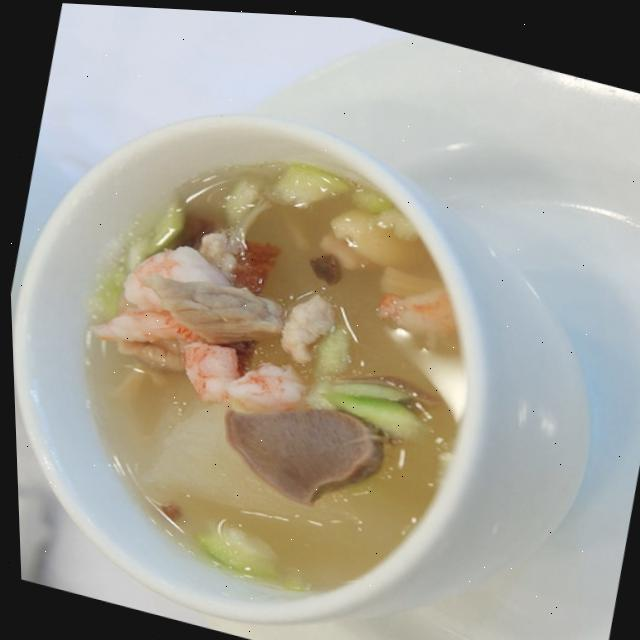汤锅炖物: (1, 39, 597, 640)
